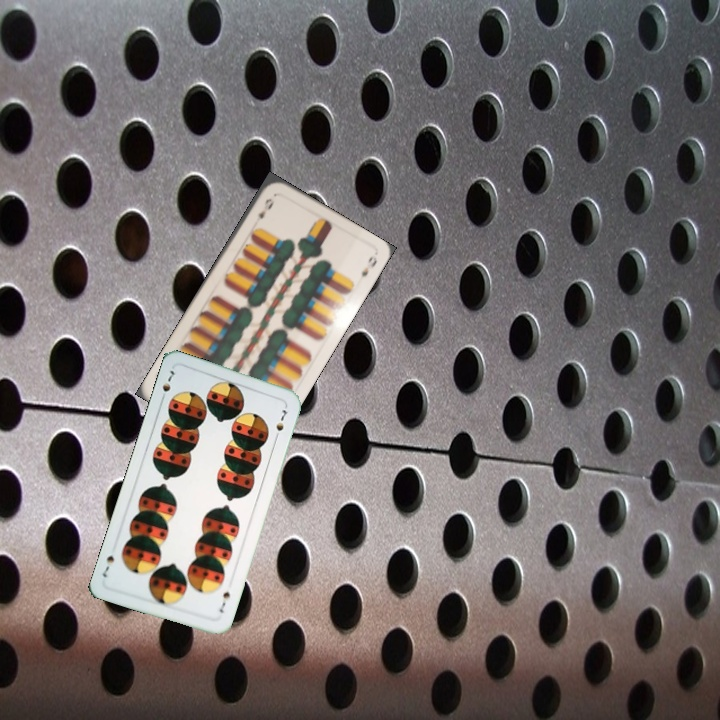E9: (254, 194, 277, 222)
S7: (157, 364, 177, 404), (215, 587, 232, 615)
